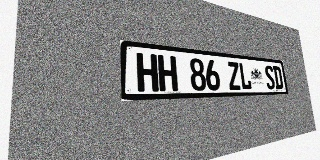6: (204, 59, 221, 91)
8: (189, 58, 207, 91)
D: (272, 66, 284, 89)
H: (136, 53, 159, 92), (157, 55, 178, 91)
L: (238, 62, 252, 90)
S: (264, 65, 276, 89)
Z: (227, 61, 241, 90)
